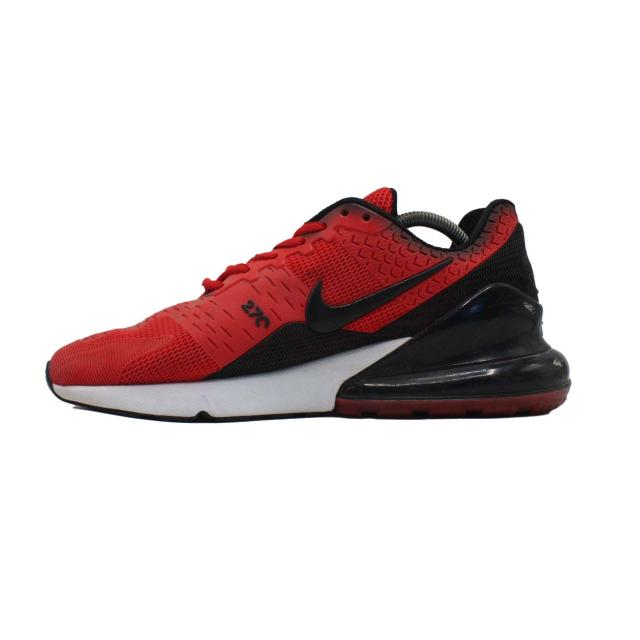midsole: (45, 285, 571, 419)
uppersole: (46, 189, 498, 390)
